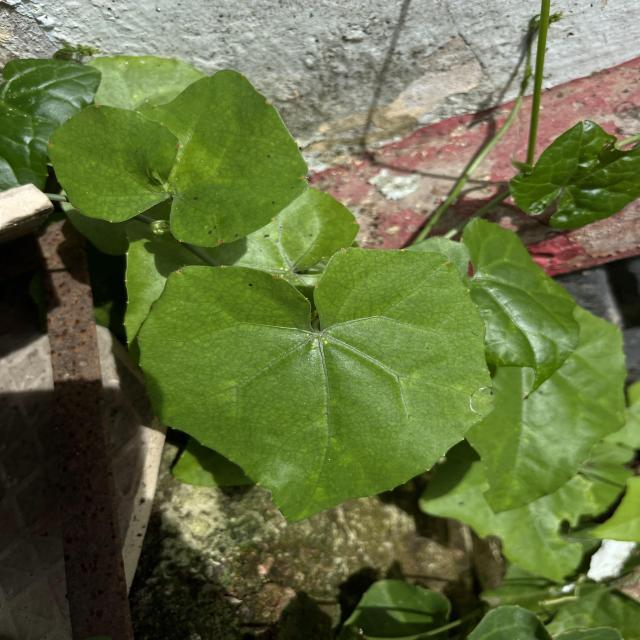Coccinia grandis: (134, 245, 498, 528)
